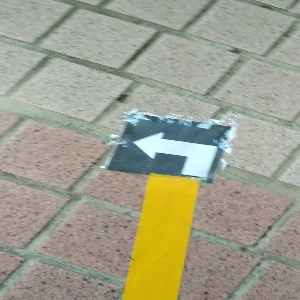left: (105, 113, 231, 182)
